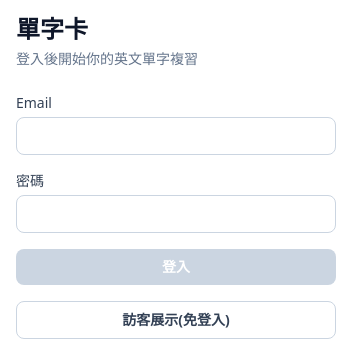
Test: 訪客按鈕:登入「之前」展示旗標與訪客標記已寫好;期間變「進入展示中…」、輸入框停用
Click the button "訪客展示(免登入)" at {"x": 176, "y": 320}, box [16,301,336,339]
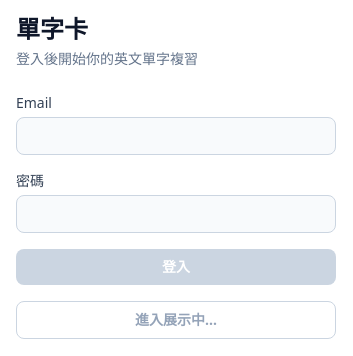
Expected: the field labelled "Email" is disabled, [16,117,336,155]
Now the button "進入展示中…" is disabled, box [16,301,336,339]
